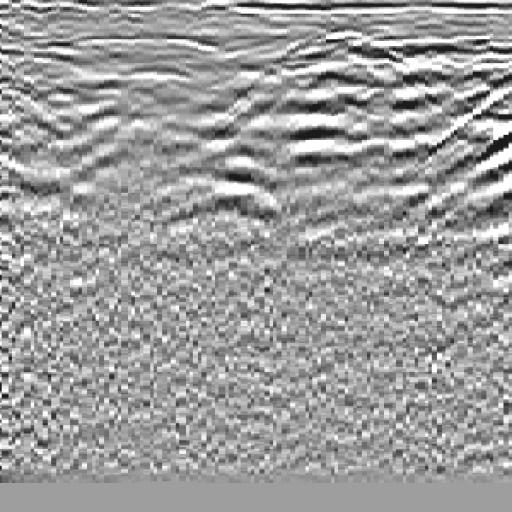metalic: (181, 45, 346, 298)
nonmetalic: (392, 37, 512, 267)
